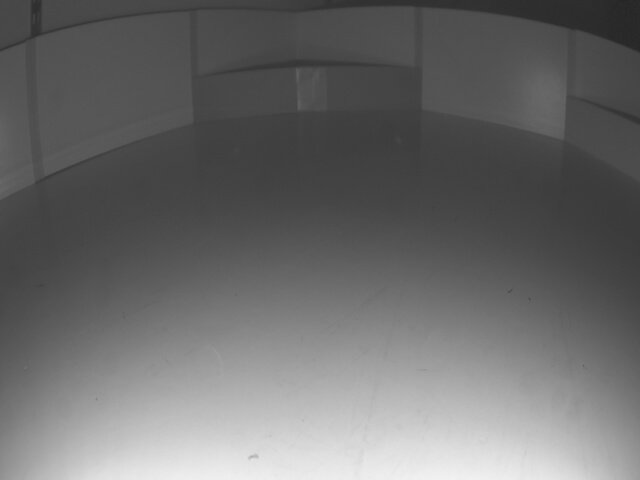Point: (196, 67, 417, 125), (568, 97, 640, 182)
